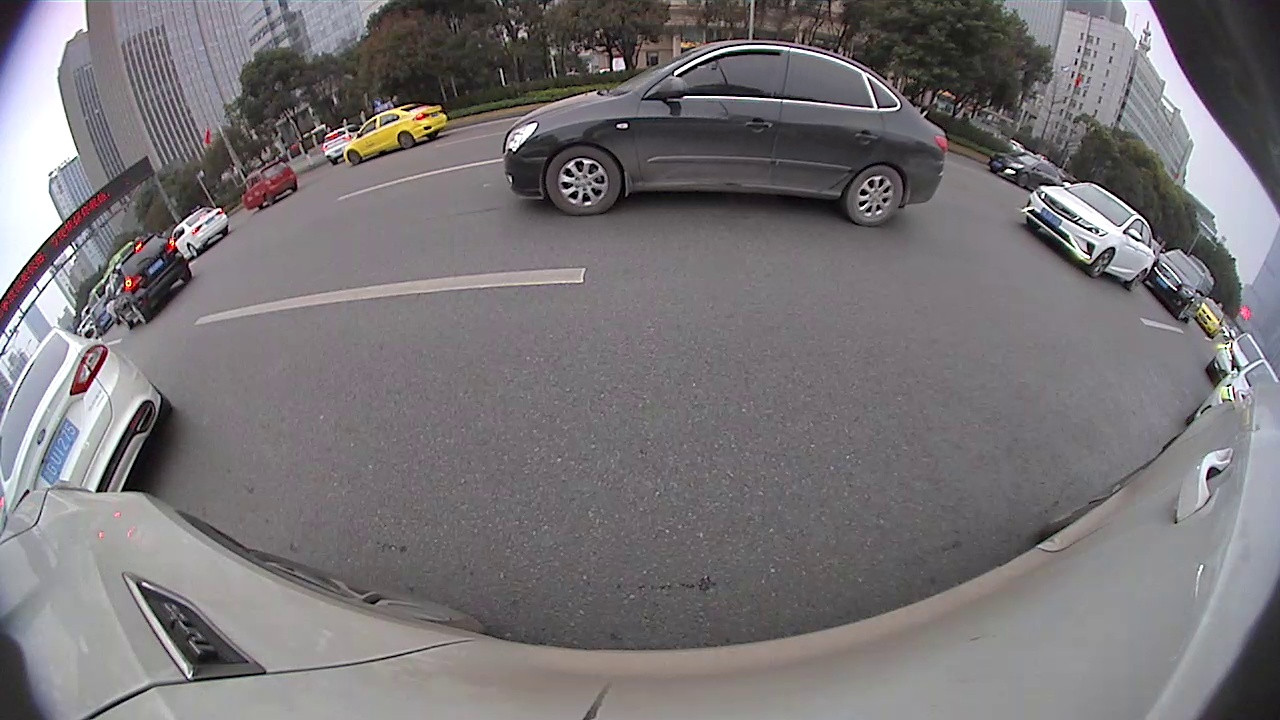car: (505, 36, 951, 227), (4, 322, 179, 523), (1024, 176, 1157, 287), (104, 231, 195, 331), (340, 99, 450, 172), (1152, 251, 1214, 322), (174, 202, 233, 256), (240, 158, 297, 211)
front: (543, 144, 622, 216), (1089, 247, 1114, 280), (348, 151, 361, 164)
rear: (841, 165, 907, 227), (129, 303, 148, 324), (399, 133, 416, 150)
